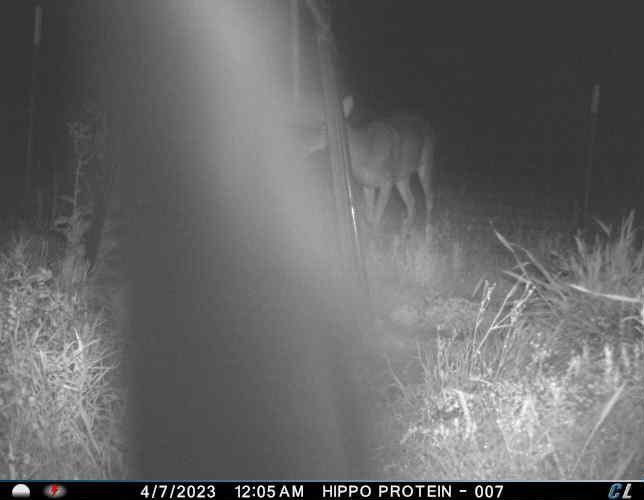Deer: (330, 85, 446, 245)
